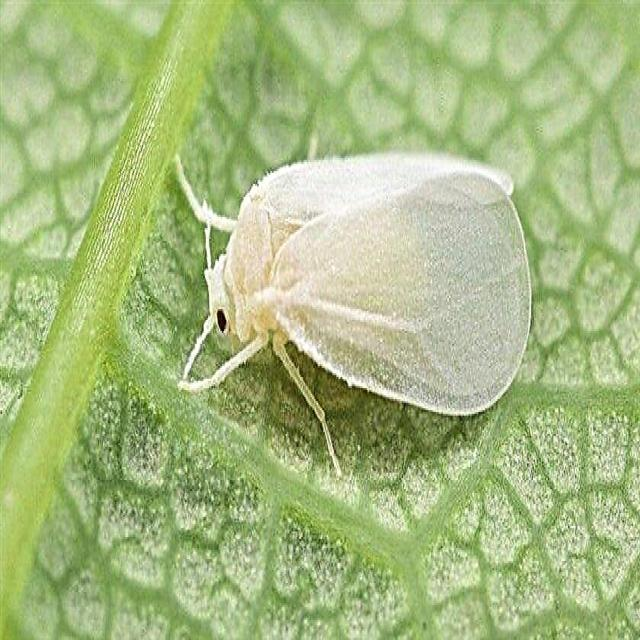Whitefly: (165, 136, 543, 498)
